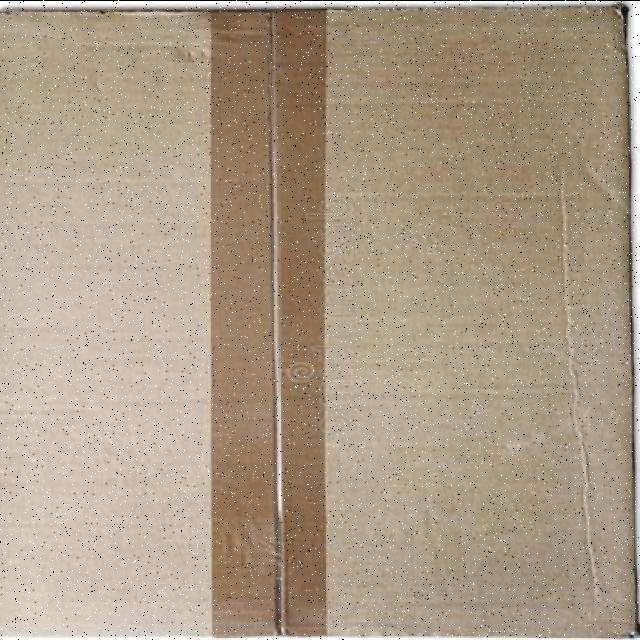normal: (1, 7, 632, 640)
